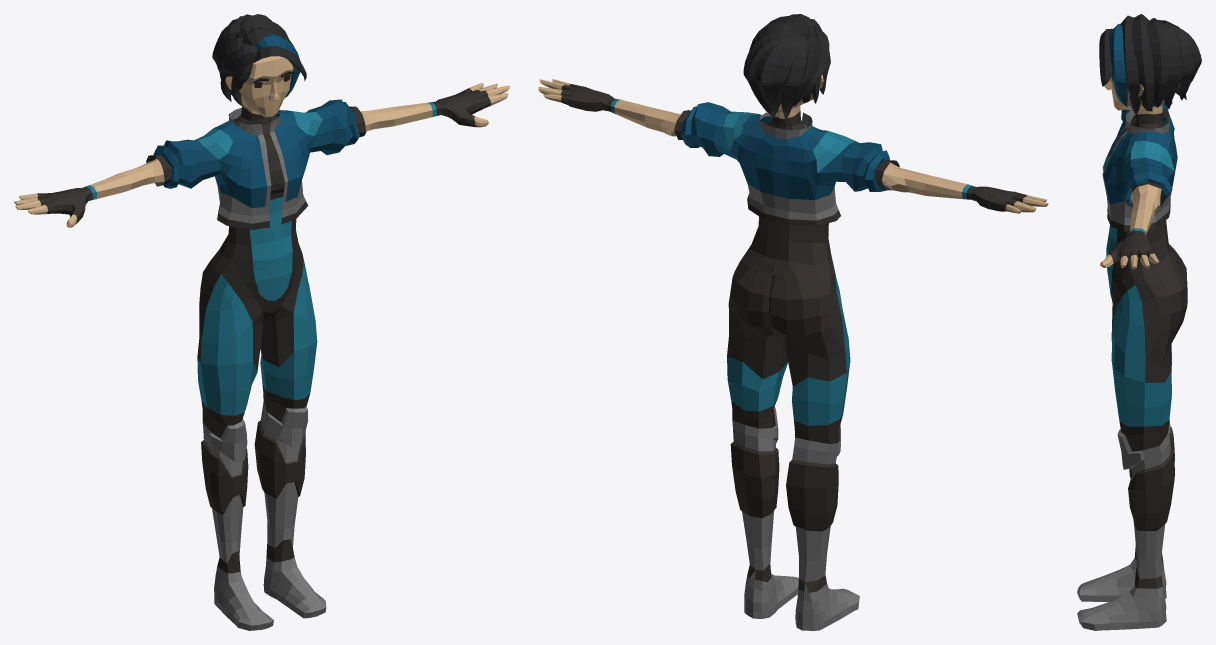
The model's file is npc0.fbx.
The picture shows the model from 3 angles, left to right: view 1: azimuth 30°, elevation 25°; view 2: azimuth 150°, elevation 25°; view 3: azimuth 270°, elevation 25°; orthographic projection. The views are drawn at different scales.
Visible parts, largest first — view 1: SciFi_Body, SciFi_Legs, SciFi_Feet, SciFi_Head; view 2: SciFi_Body, SciFi_Legs, SciFi_Feet, SciFi_Head; view 3: SciFi_Legs, SciFi_Body, SciFi_Feet, SciFi_Head.
Part boxes in pixels (x1,y1,x2,y2): SciFi_Body: (14, 83, 509, 260); SciFi_Legs: (197, 243, 317, 476); SciFi_Feet: (201, 420, 326, 630); SciFi_Head: (212, 14, 306, 120); SciFi_Body: (538, 79, 1048, 265); SciFi_Legs: (727, 245, 850, 464); SciFi_Feet: (730, 441, 859, 630); SciFi_Head: (743, 14, 830, 126); SciFi_Legs: (1106, 243, 1187, 481); SciFi_Body: (1100, 101, 1177, 269); SciFi_Feet: (1077, 426, 1174, 630); SciFi_Head: (1099, 14, 1201, 124).
Size of the model in its own units: 165 by 185 by 35.44.
